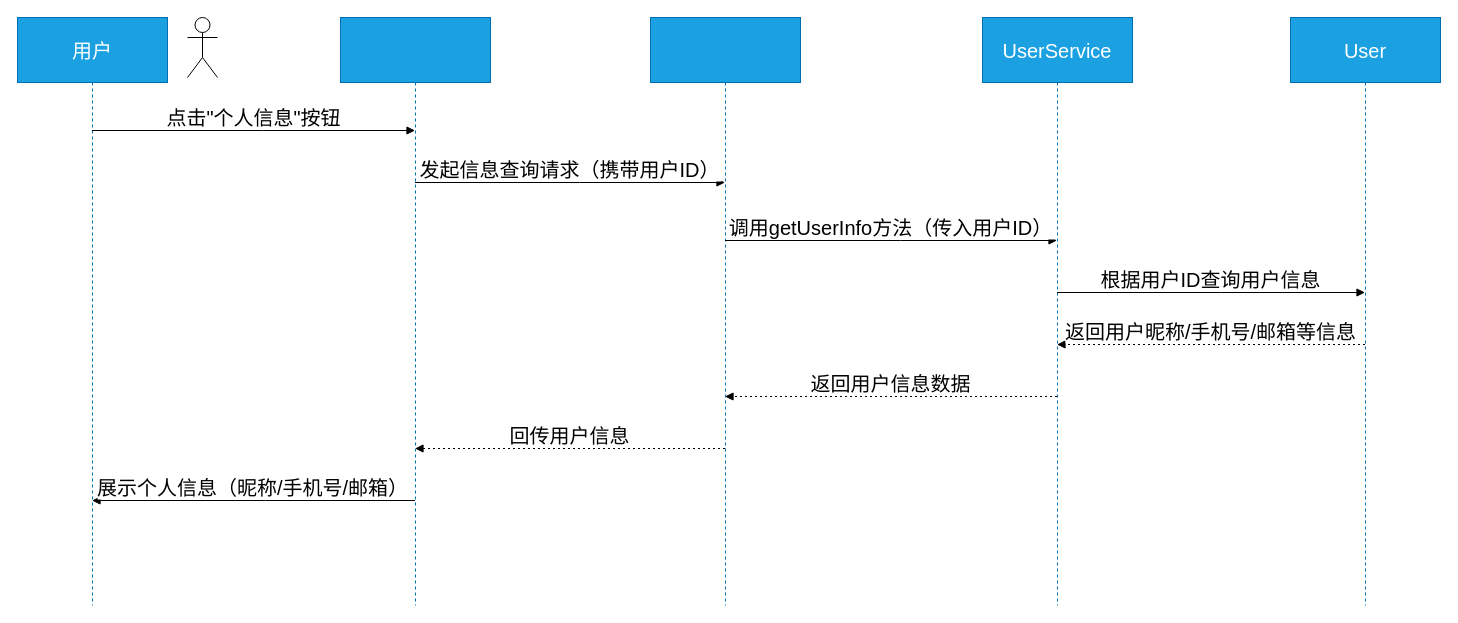
Some shapes in this 1458 by 623 pixel diagram are drawn without their labels. The shapes that lost their labels are listed below. From the top down, each one's box as (x1, y1, x2, y2) in pixels, then its label:
(340, 16, 490, 606): 前端页面
(650, 16, 800, 606): UserController
